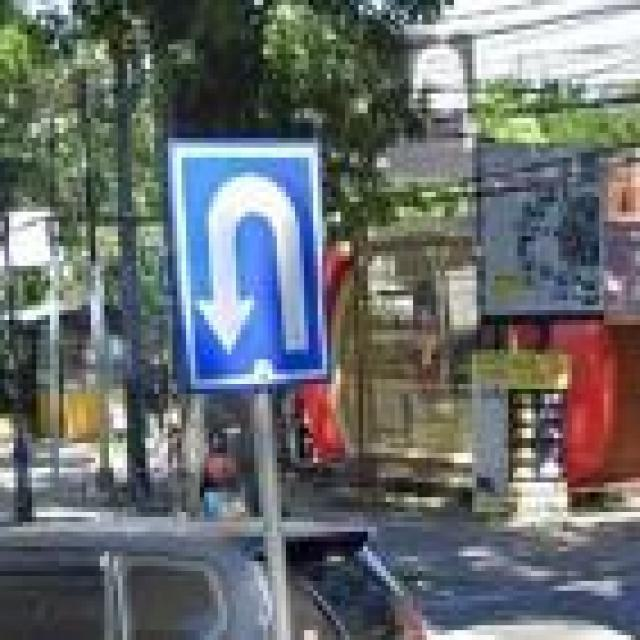U-turn: (172, 147, 324, 382)
